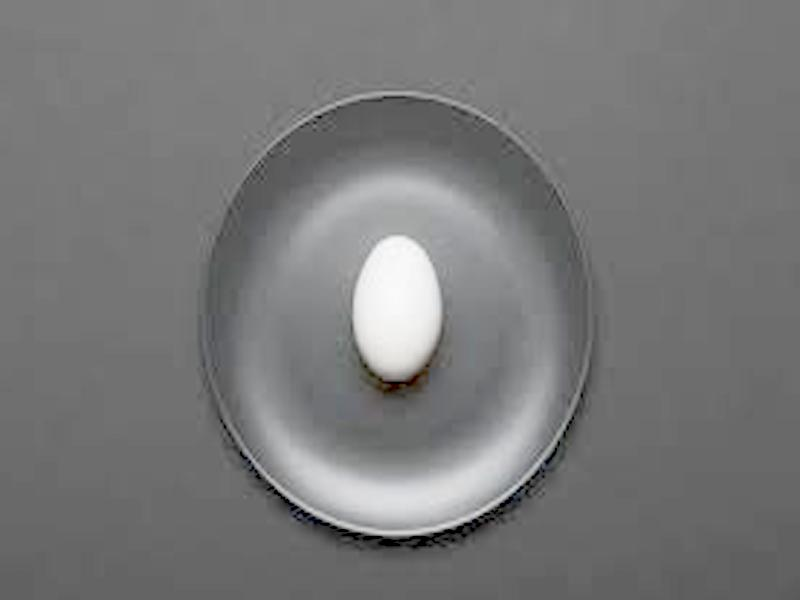Eggs: (353, 236, 442, 377)
